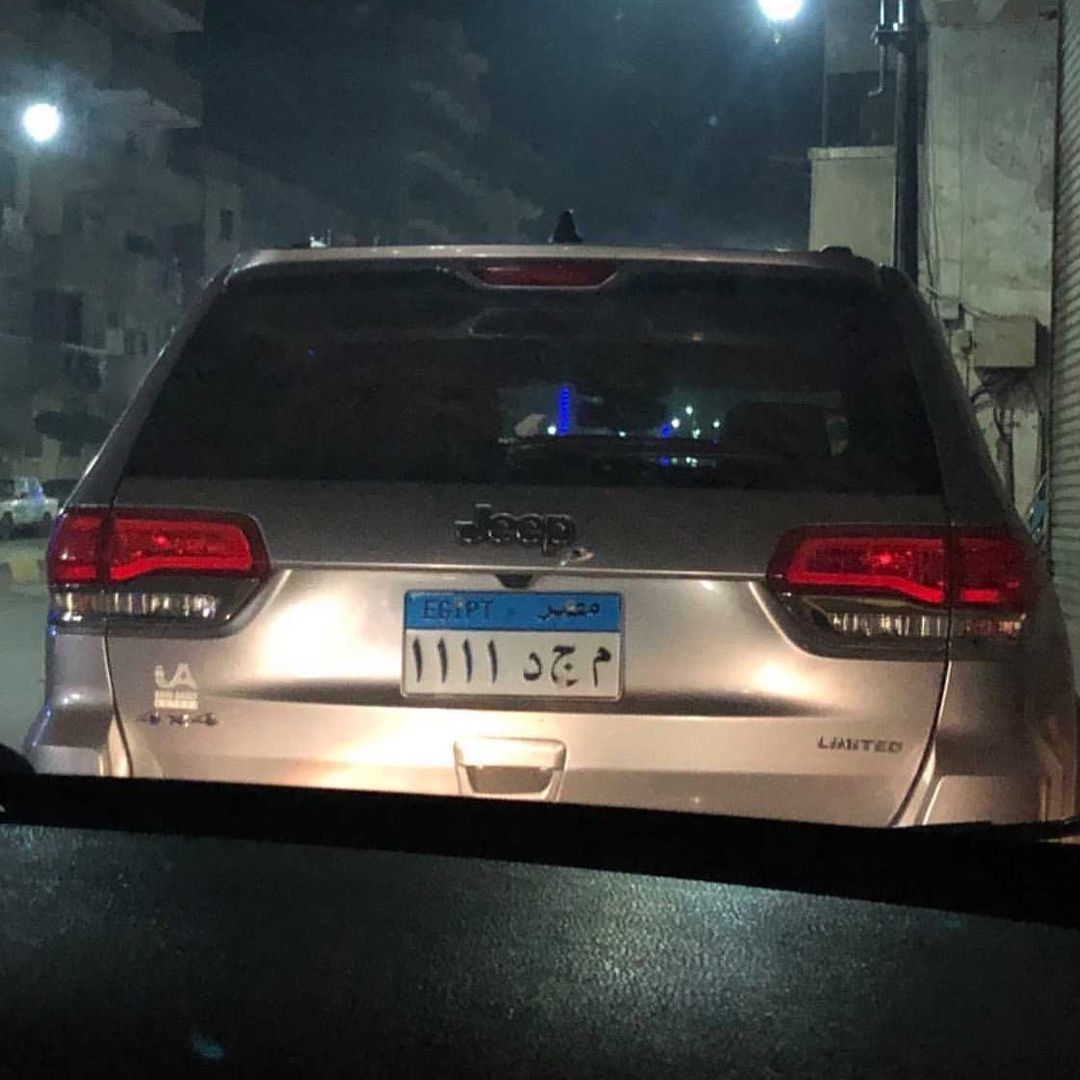carpl: (394, 583, 640, 715)
